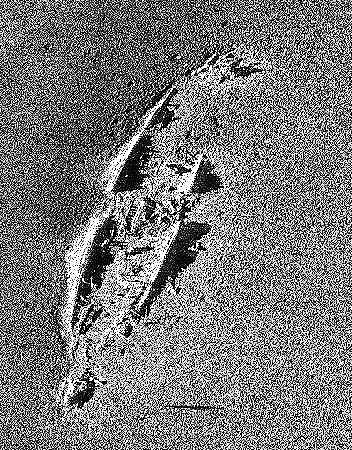ship: (56, 49, 238, 406)
